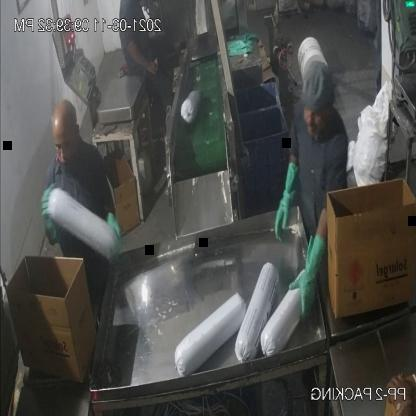glove: (288, 226, 332, 326), (268, 154, 301, 251)
no_glove: (120, 36, 162, 74)
